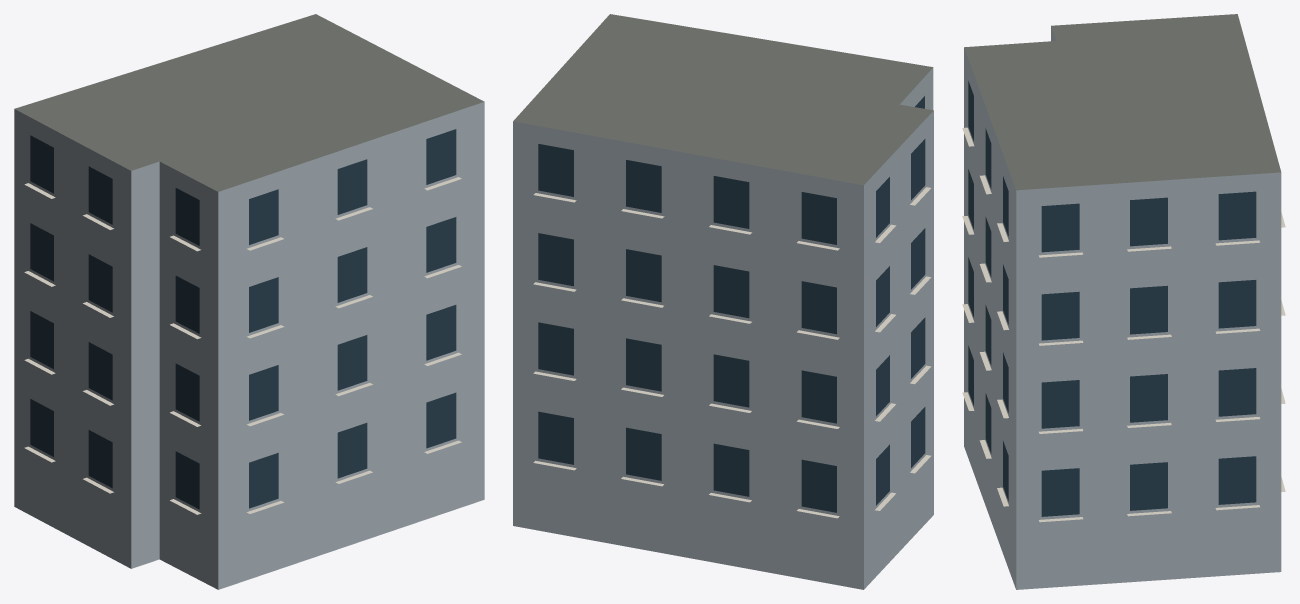
3 views of the same model, side by side, from view 1: azimuth 30°, elevation 25°; view 2: azimuth 150°, elevation 25°; view 3: azimuth 270°, elevation 25° (orthographic).
Parts seen in each view (by area): view 1: Footprint 0, Inferred window bays, Window sills; view 2: Footprint 0, Inferred window bays, Window sills; view 3: Footprint 0, Inferred window bays, Window sills.
Part boxes in pixels (x1,y1,x2,y2): Footprint 0: (14,14,484,589); Inferred window bays: (30,129,456,509); Window sills: (24,177,461,514); Footprint 0: (513,14,933,589); Inferred window bays: (538,96,925,512); Window sills: (533,187,931,518); Footprint 0: (964,14,1281,589); Inferred window bays: (968,81,1256,516); Window sills: (962,127,1285,522).
Bounding box in the file's own units: 13.73 × 14.26 × 10.46.
